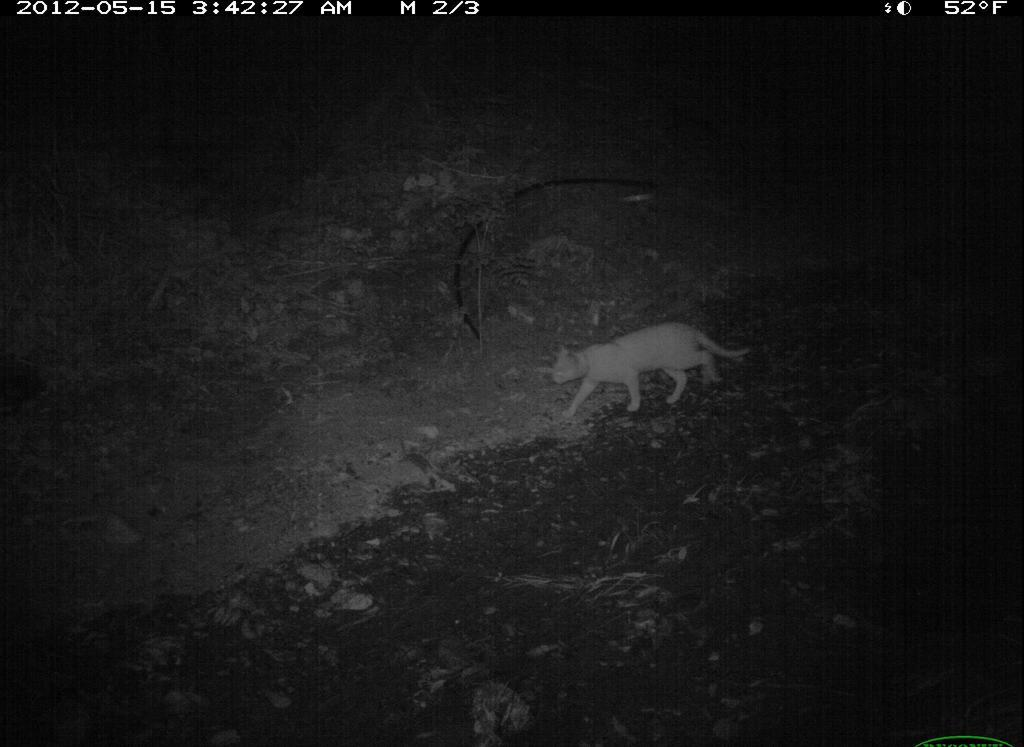cat: (546, 318, 752, 423)
